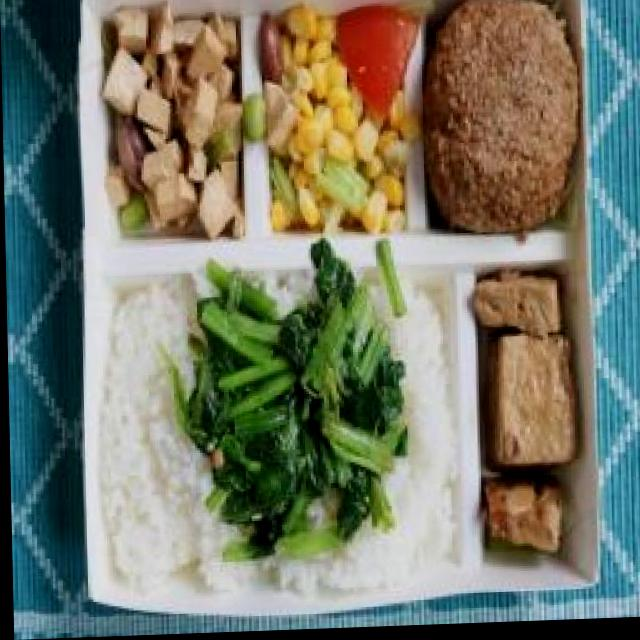rice: (95, 274, 209, 600), (390, 262, 459, 602)
